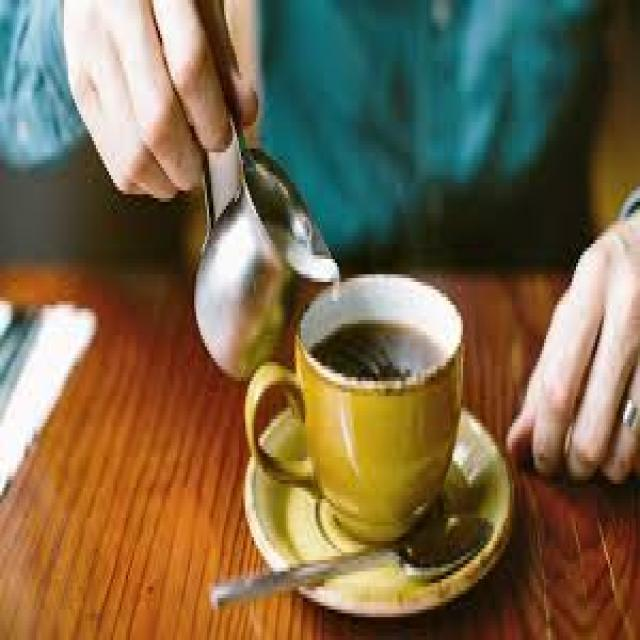taza: (237, 277, 484, 546)
